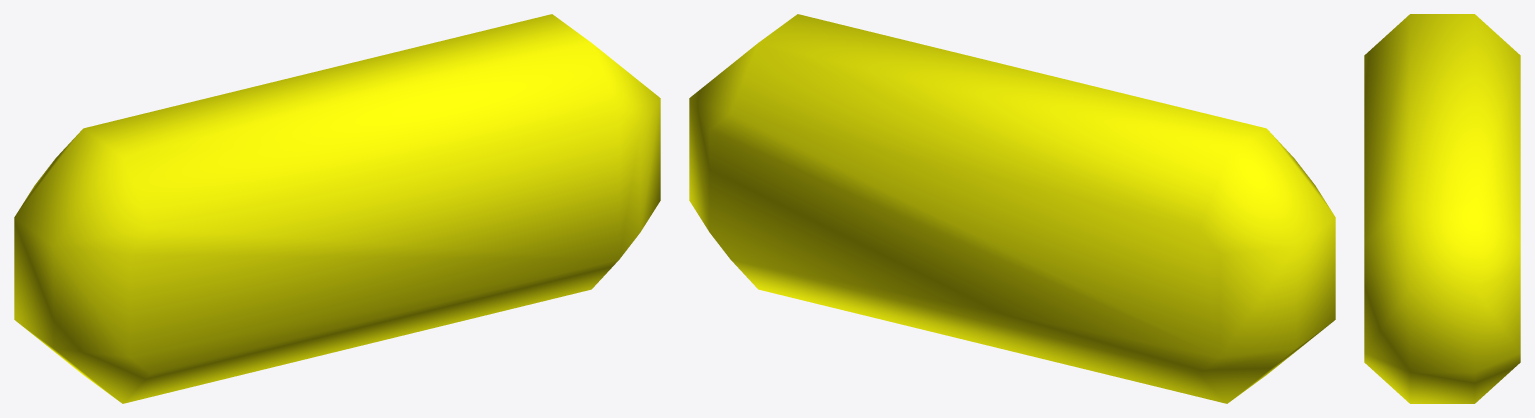
File: Link3.bbox.gltf
The picture shows the model from 3 angles, left to right: view 1: azimuth 30°, elevation 25°; view 2: azimuth 150°, elevation 25°; view 3: azimuth 270°, elevation 25°; orthographic projection. The views are drawn at different scales.
Parts seen in each view (by area): view 1: Link3.bbox; view 2: Link3.bbox; view 3: Link3.bbox.
Boxes of the visible parts, x1,y1,x2,y2 form: Link3.bbox: (14, 14, 660, 403); Link3.bbox: (689, 14, 1335, 403); Link3.bbox: (1364, 14, 1520, 403).
Size of the model in its own units: 0.3017 by 0.1172 by 0.082.
